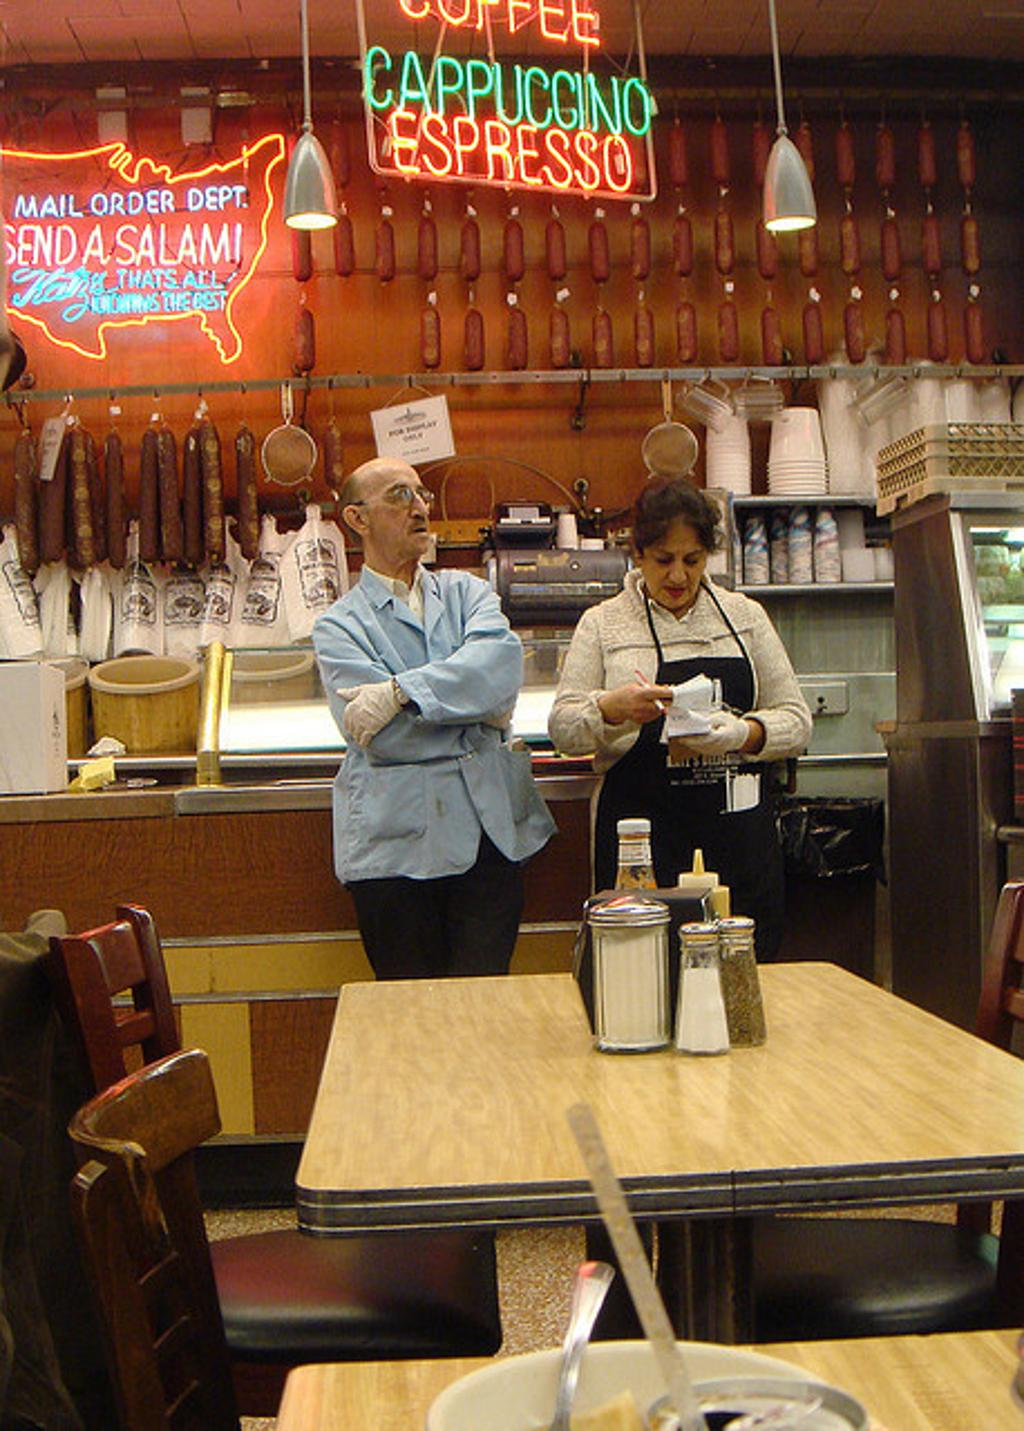face: (641, 518, 705, 610), (367, 464, 431, 554)
